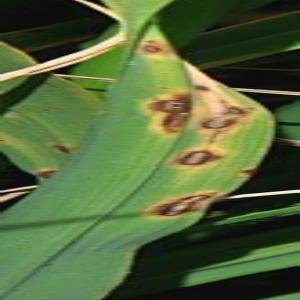0 BrownSpot: (141, 181, 227, 225), (162, 135, 234, 180), (136, 87, 198, 119), (195, 108, 244, 141), (147, 109, 194, 141), (213, 95, 260, 122), (133, 41, 173, 62), (189, 77, 214, 97), (142, 34, 162, 44)
